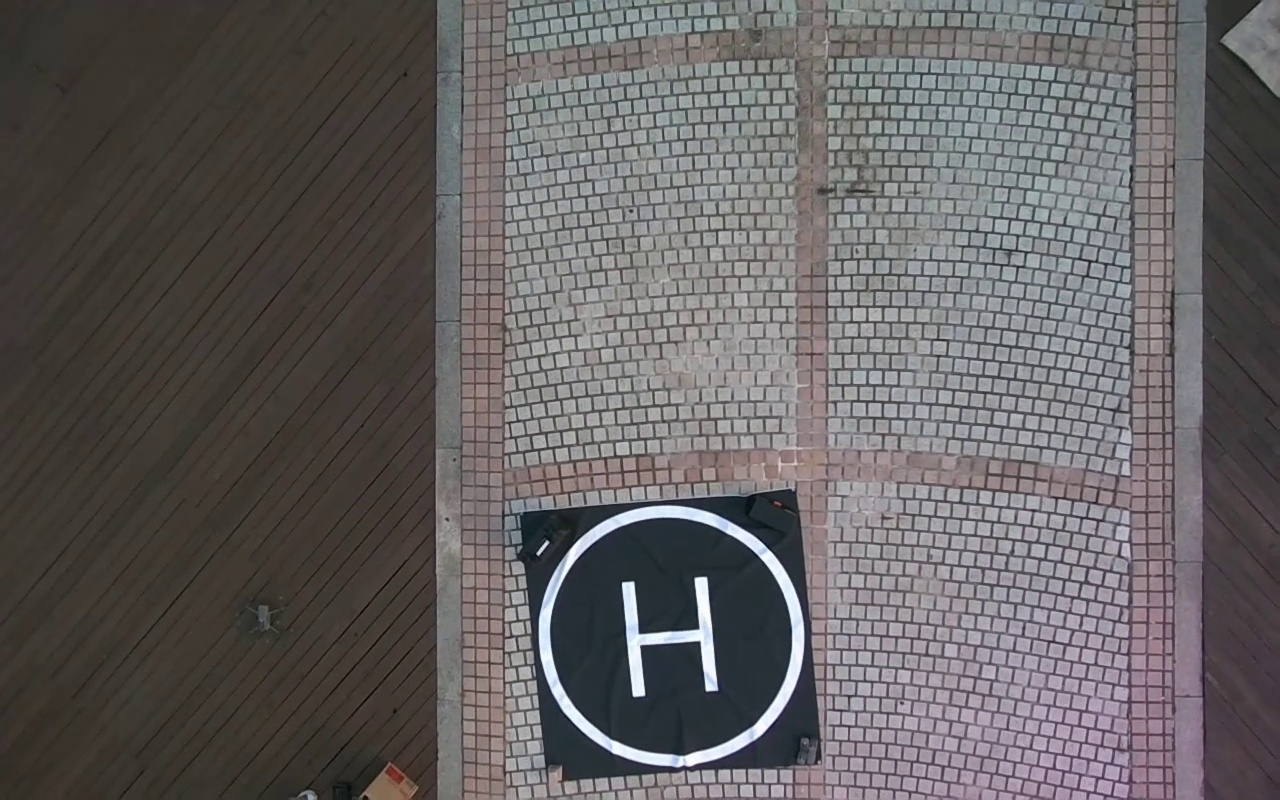H: (621, 576, 719, 697)
heliport: (536, 504, 806, 764)
